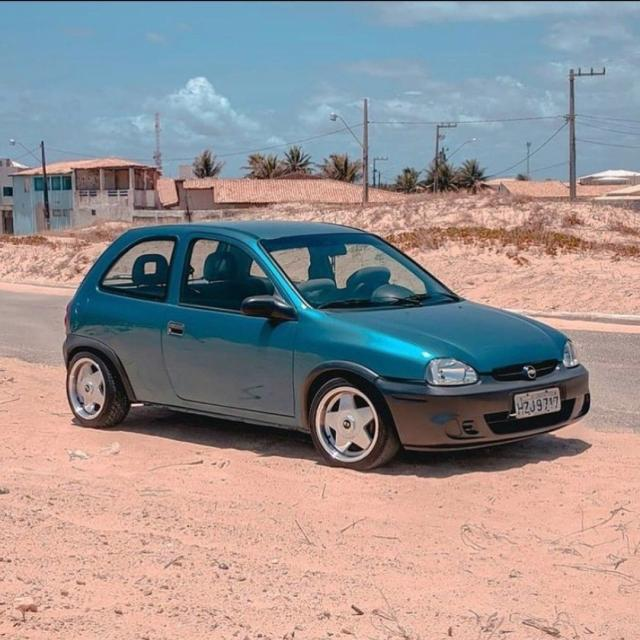Placas: (507, 384, 568, 426)
